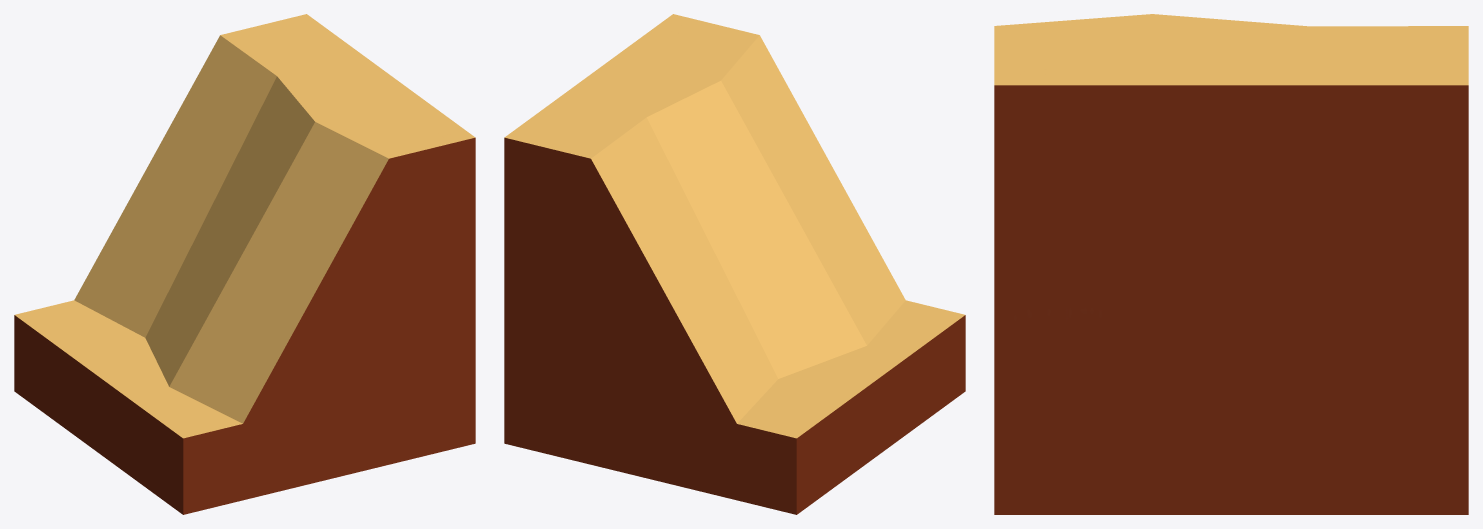
The model's file is sand_wall.fbx.
The picture shows the model from 3 angles, left to right: view 1: azimuth 30°, elevation 25°; view 2: azimuth 150°, elevation 25°; view 3: azimuth 270°, elevation 25°; orthographic projection. The views are drawn at different scales.
Visible parts, largest first — view 1: sand_wall; view 2: sand_wall; view 3: sand_wall.
Boxes of the visible parts, x1,y1,x2,y2 form: sand_wall: [14, 14, 475, 514]; sand_wall: [504, 14, 965, 514]; sand_wall: [994, 14, 1468, 514].
Bounding box in the file's own units: 200 × 200 × 200.
Materials: 1 (1 with a texture image).
